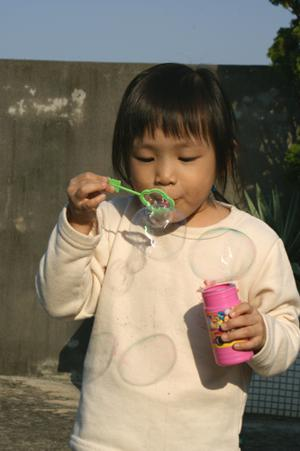person: (35, 61, 300, 450)
